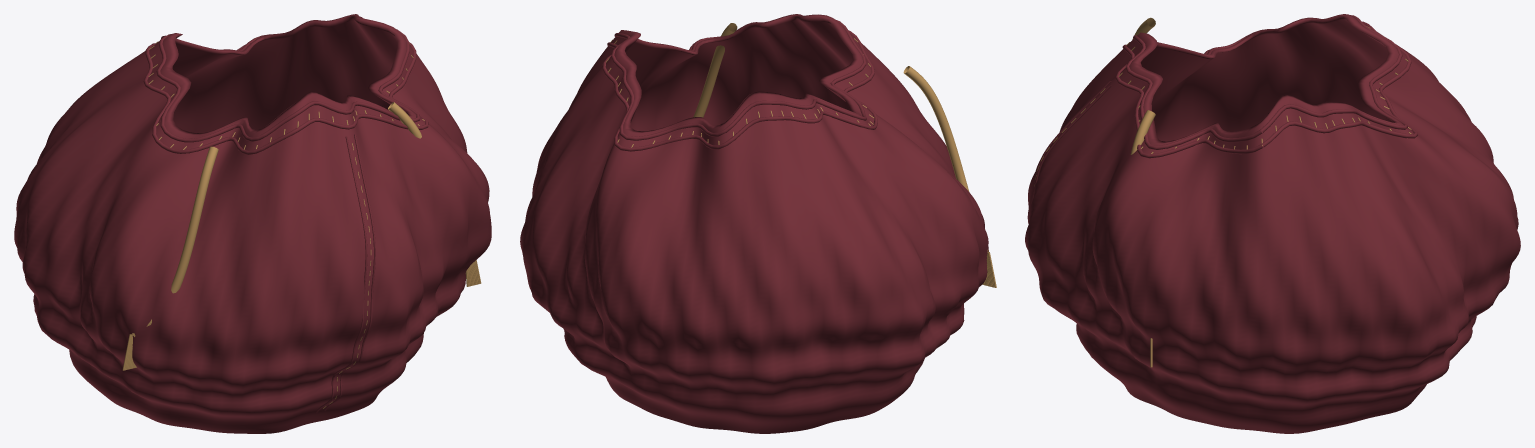
The model's file is Sack.fbx.
3 views of the same model, side by side, from view 1: azimuth 30°, elevation 25°; view 2: azimuth 150°, elevation 25°; view 3: azimuth 270°, elevation 25° (orthographic). The views are drawn at different scales.
Parts seen in each view (by area): view 1: Open velvet sack, Individual golden stitch; view 2: Open velvet sack, Individual golden stitch; view 3: Open velvet sack, Individual golden stitch.
Part boxes in pixels (<box>): Open velvet sack: <box>14,14,491,433</box>; Individual golden stitch: <box>122,41,481,408</box>; Open velvet sack: <box>520,14,988,433</box>; Individual golden stitch: <box>606,23,996,287</box>; Open velvet sack: <box>1025,14,1520,433</box>; Individual golden stitch: <box>1034,17,1411,367</box>.
Size of the model in its own units: 86.96 by 65.02 by 88.2.
